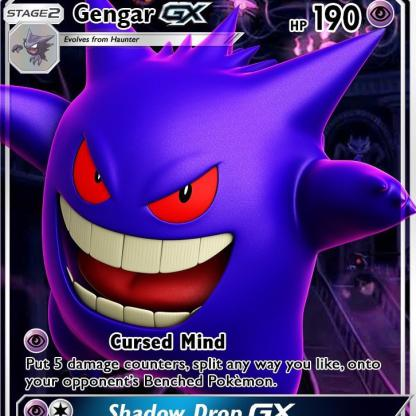Gengar: (1, 50, 416, 364)
